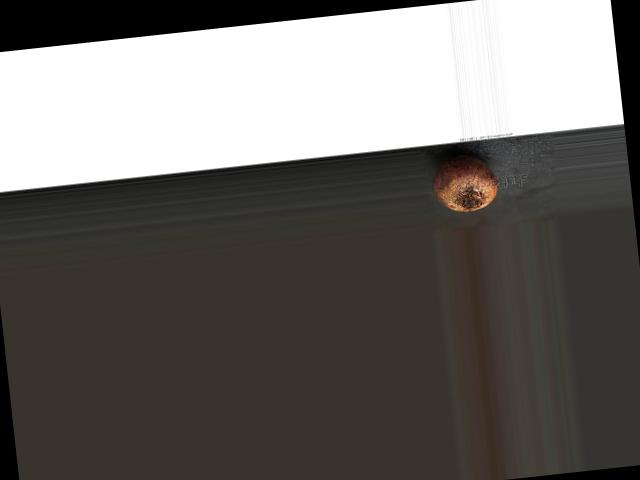beet: (428, 152, 499, 214)
